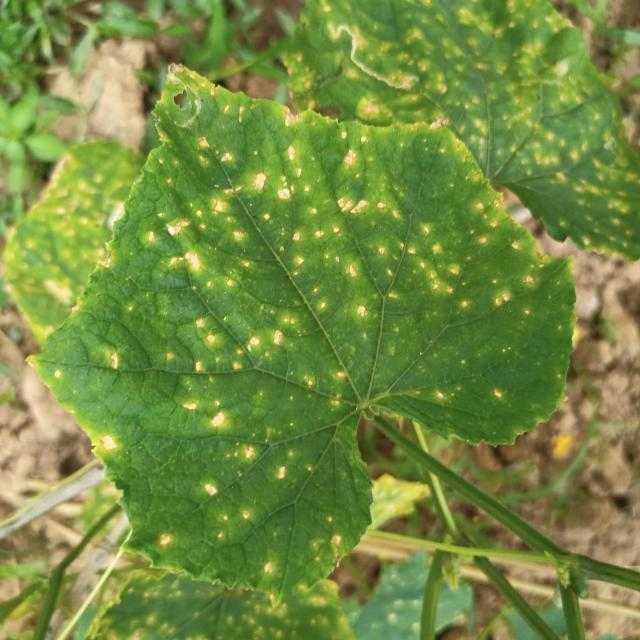disease_cucumber: (57, 120, 565, 406), (148, 395, 350, 578), (97, 431, 123, 456)
